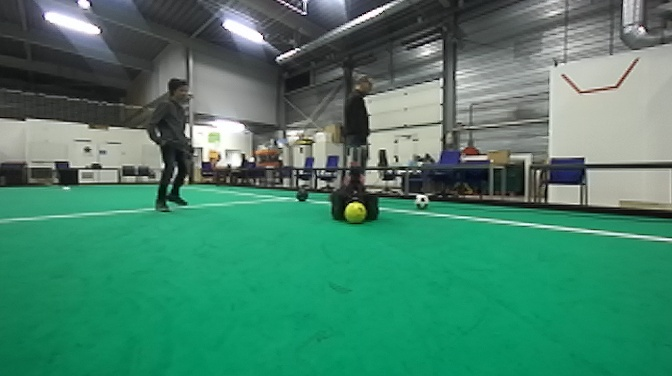ball: (342, 199, 369, 224), (413, 192, 431, 212), (293, 185, 310, 203)
human: (140, 73, 203, 217), (340, 73, 381, 190)
robot: (328, 143, 382, 225)
